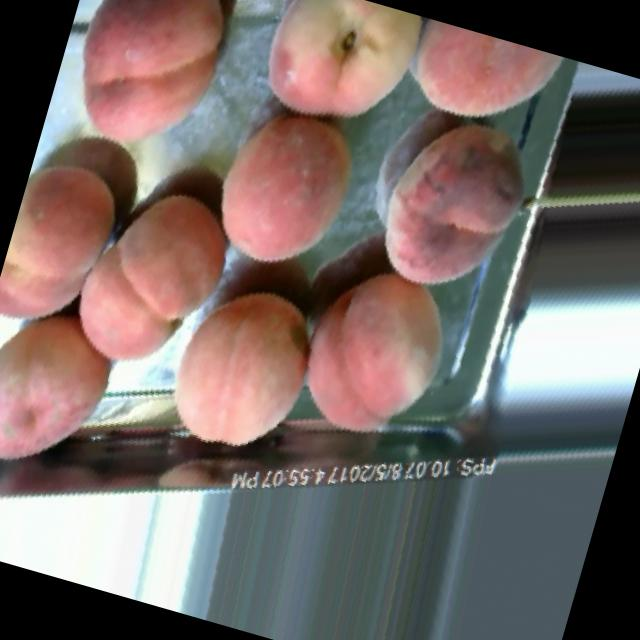Fruit: (347, 86, 554, 322), (177, 72, 385, 298), (281, 237, 478, 468), (137, 252, 331, 484), (41, 0, 267, 184), (0, 270, 151, 507), (0, 132, 152, 366), (87, 158, 266, 352), (229, 0, 439, 157), (390, 15, 578, 157)
